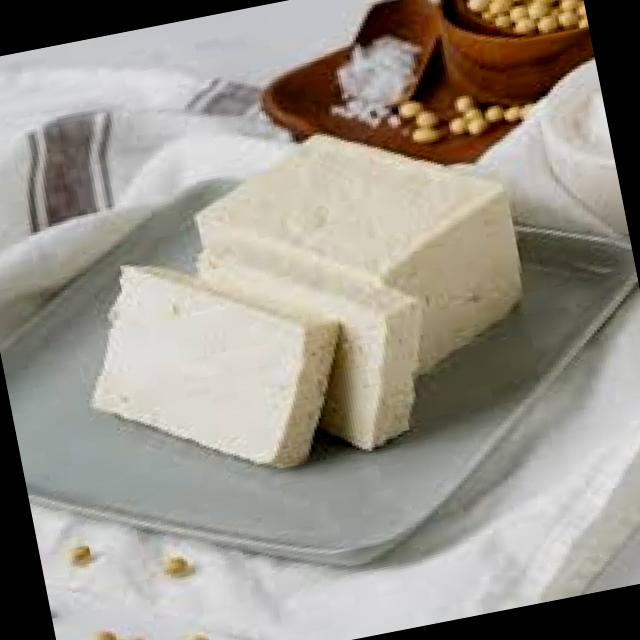tof: (42, 98, 586, 513)
